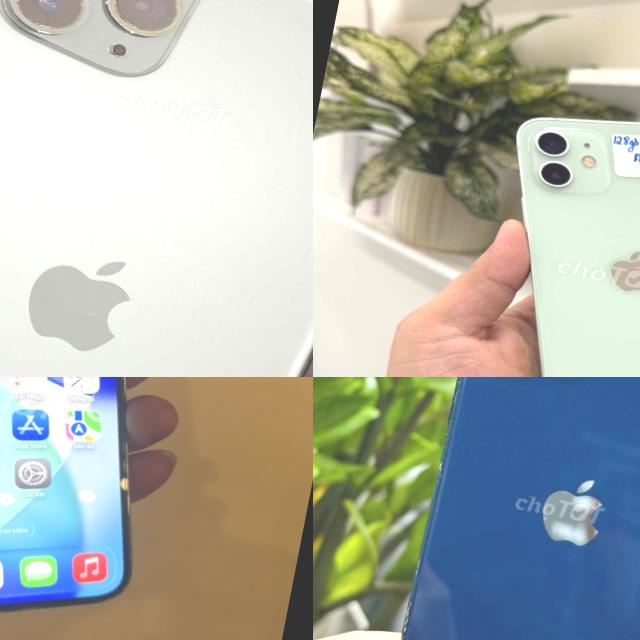gen_11: (0, 0, 313, 377)
gen_12_13: (379, 377, 640, 640), (0, 377, 210, 640), (458, 92, 640, 377)
